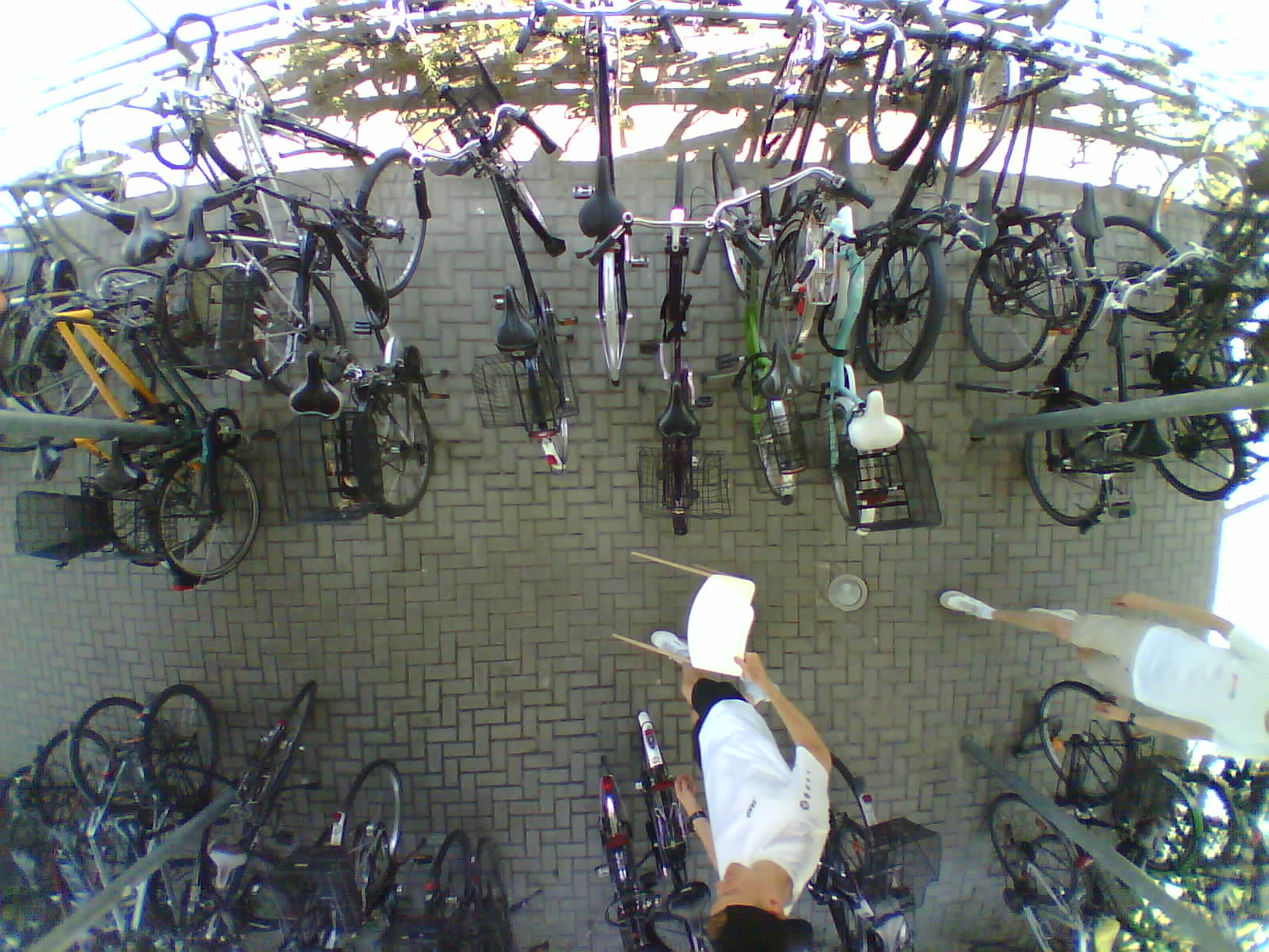bicylce: (414, 99, 588, 467), (993, 199, 1139, 540), (1088, 218, 1261, 501), (27, 140, 181, 420), (793, 191, 915, 537), (73, 266, 211, 567), (231, 106, 376, 391), (139, 269, 267, 590), (146, 64, 275, 375), (328, 150, 430, 521), (853, 0, 950, 376), (705, 153, 809, 501), (939, 45, 1049, 370), (197, 677, 321, 952), (637, 145, 721, 533), (1030, 682, 1149, 952), (758, 8, 834, 356), (583, 0, 642, 387), (67, 697, 154, 949), (141, 683, 210, 951)
saddle: (569, 152, 637, 245), (844, 385, 912, 458), (486, 278, 540, 360), (284, 347, 347, 416), (662, 877, 719, 949), (173, 196, 221, 278), (1124, 407, 1185, 464), (118, 200, 168, 269), (93, 439, 155, 494), (963, 171, 1000, 254), (757, 342, 806, 402), (203, 833, 250, 892), (1070, 177, 1110, 245), (657, 384, 701, 440), (23, 431, 69, 484), (874, 910, 904, 952), (112, 820, 142, 860), (5, 849, 38, 884), (53, 821, 79, 863), (1098, 910, 1120, 952)
